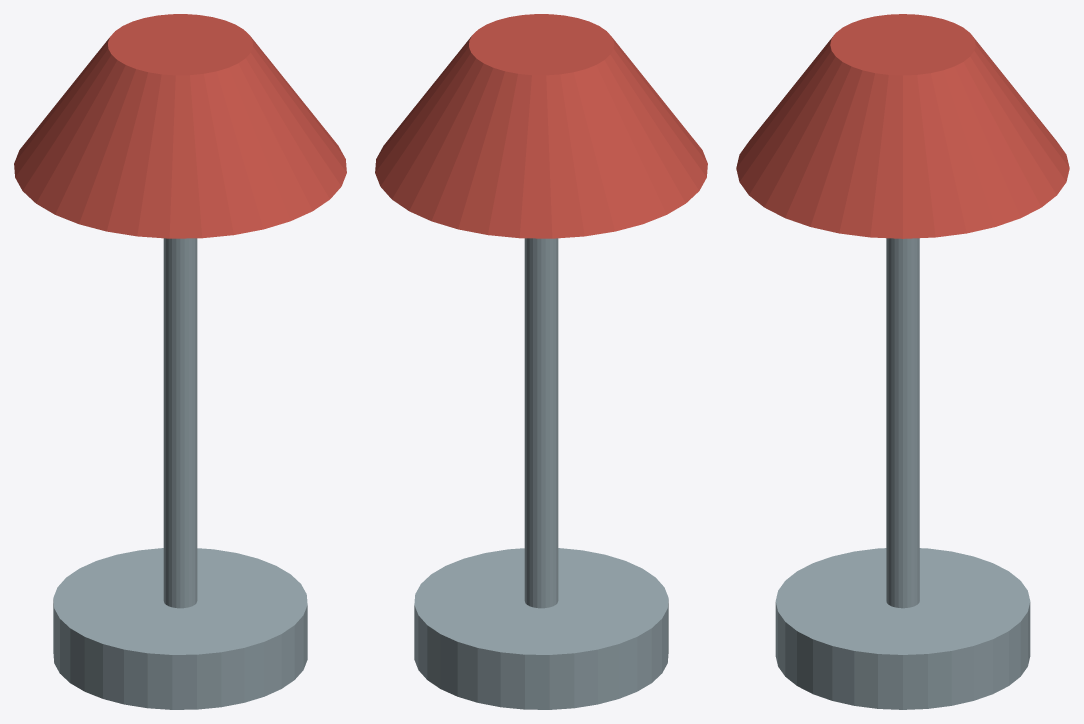
File: enamel-lamp.glb
3 renders of one model, left to right at view 1: azimuth 30°, elevation 25°; view 2: azimuth 150°, elevation 25°; view 3: azimuth 270°, elevation 25°, orthographic.
Visible parts, largest first — view 1: lamp-shade, lamp-base, lamp-pole; view 2: lamp-shade, lamp-base, lamp-pole; view 3: lamp-shade, lamp-base, lamp-pole.
Boxes of the visible parts, x1,y1,x2,y2 form: lamp-shade: (14,14,346,238); lamp-base: (53,548,307,709); lamp-pole: (163,238,197,608); lamp-shade: (375,14,707,238); lamp-base: (414,548,668,709); lamp-pole: (524,238,558,608); lamp-shade: (736,14,1069,238); lamp-base: (775,548,1030,709); lamp-pole: (886,238,919,608).
Size of the model in its own units: 1.1 by 2.22 by 1.1.
